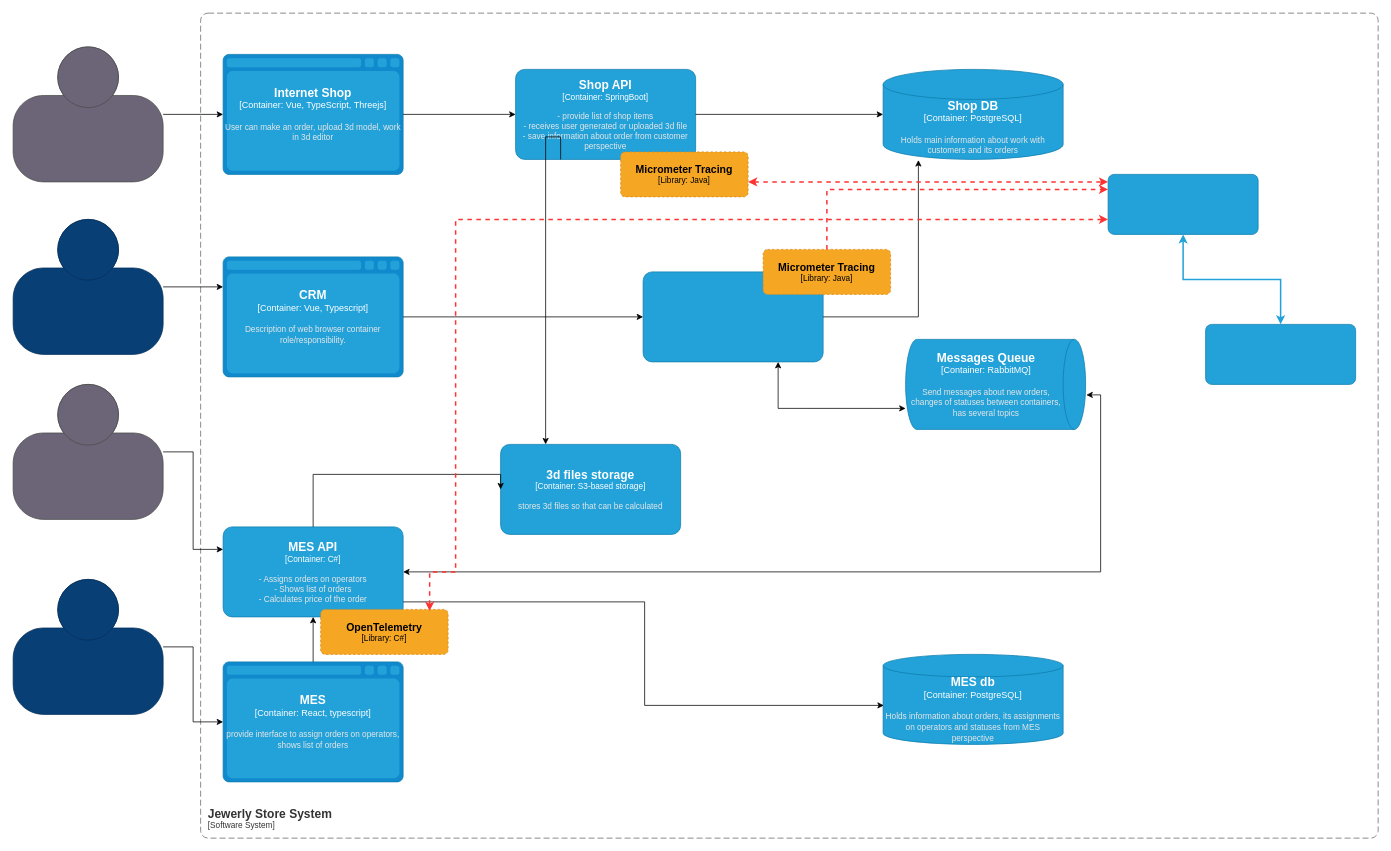
Image size: 1391x851. Some labels were removed from this diagram. The shapes that lost their labels are listed below. From the top down, each one's box as (x1, y1, x2, y2) in pixels, then its label:
(12, 46, 163, 182): Customer [Person] Description of external person.
(1107, 174, 1258, 234): Jaeger [Container: Distributed Tracing] Stores and indexes distributed traces
(12, 219, 163, 354): Seller [Person] Operates with order, confirms manufacturing for the user
(642, 271, 823, 362): CRM API [Container: SpringBoot] Description of container role/responsibility.
(1205, 324, 1356, 384): Grafana [Container: Observability] Visualization for traces and metrics
(12, 384, 163, 519): API user [Person] Description of external person.
(12, 579, 163, 714): Operator [Person] Takes order in work, manufactures jewerly
